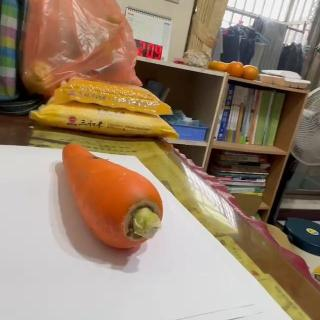carrot: (63, 143, 163, 250)
